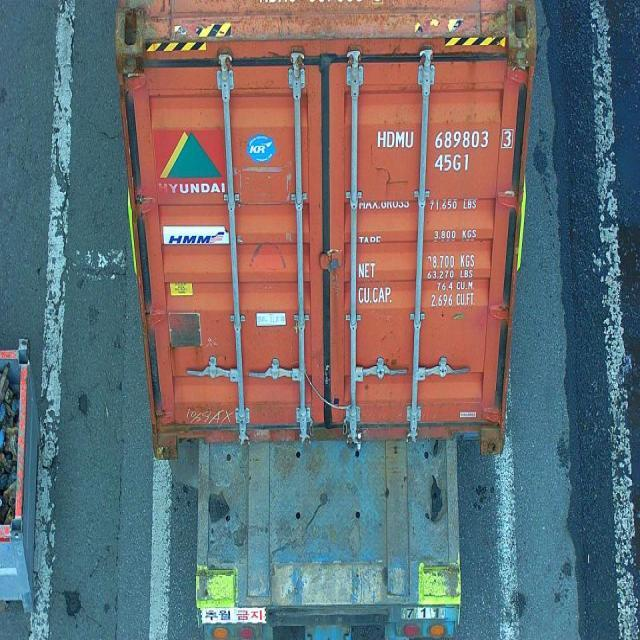ISO: (433, 152, 472, 172)
container_number: (377, 128, 507, 150)
